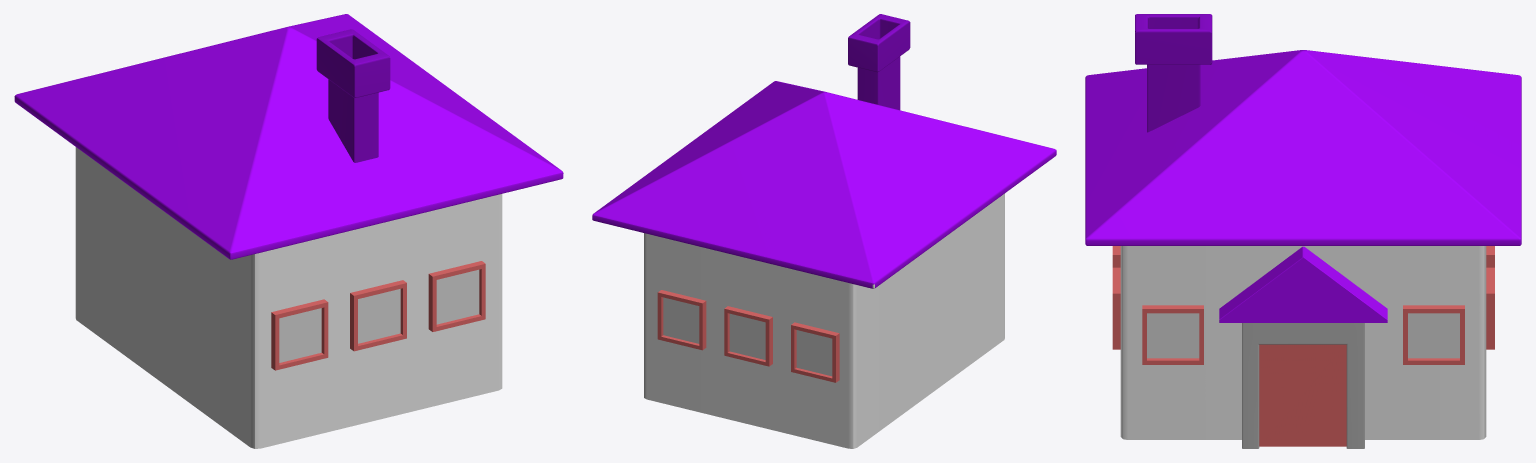
File: house4.fbx
The picture shows the model from 3 angles, left to right: view 1: azimuth 30°, elevation 25°; view 2: azimuth 150°, elevation 25°; view 3: azimuth 270°, elevation 25°; orthographic projection. The views are drawn at different scales.
Parts seen in each view (by area): view 1: house_red_mesh; view 2: house_red_mesh; view 3: house_red_mesh.
Part boxes in pixels (left/top/right/bottom): house_red_mesh: left=14, top=14, right=563, bottom=448; house_red_mesh: left=592, top=14, right=1056, bottom=448; house_red_mesh: left=1085, top=14, right=1521, bottom=448.
Bounding box in the file's own units: 4.83 × 4.89 × 5.42.
